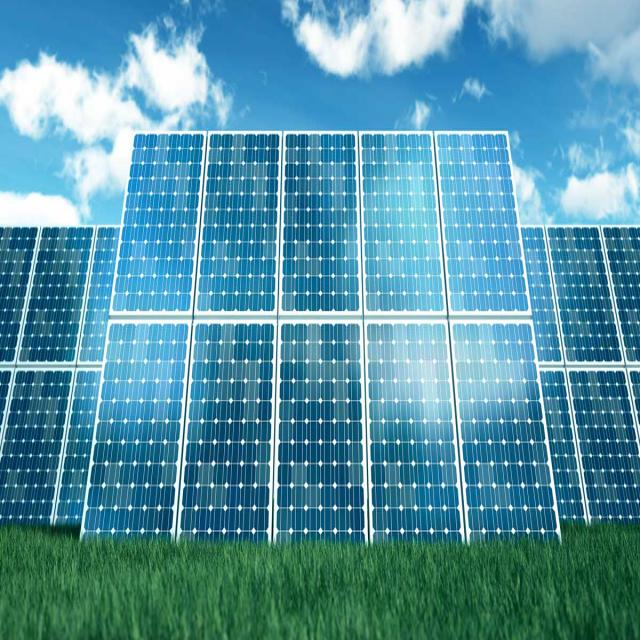clean-solar-panel: (1, 131, 640, 542)
